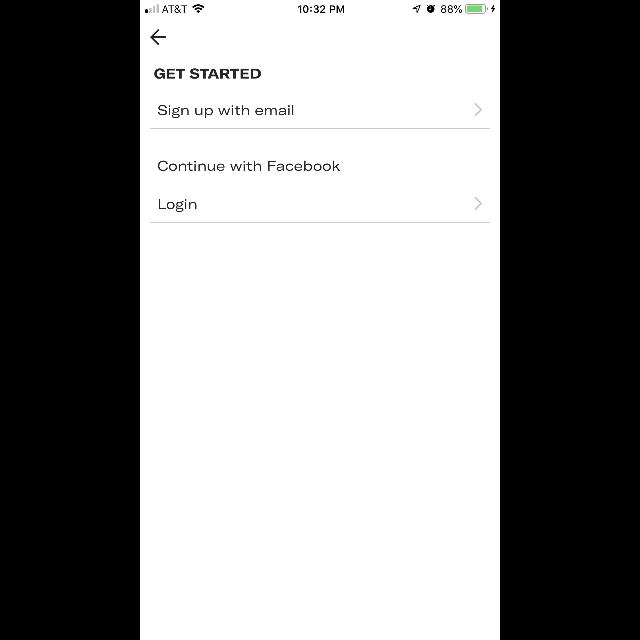icon: (151, 29, 167, 45), (474, 198, 482, 210), (474, 104, 482, 116)
text: (158, 160, 340, 172), (158, 105, 294, 118), (154, 68, 262, 80), (159, 200, 197, 212)
uppertaskbar: (140, 0, 500, 14)
